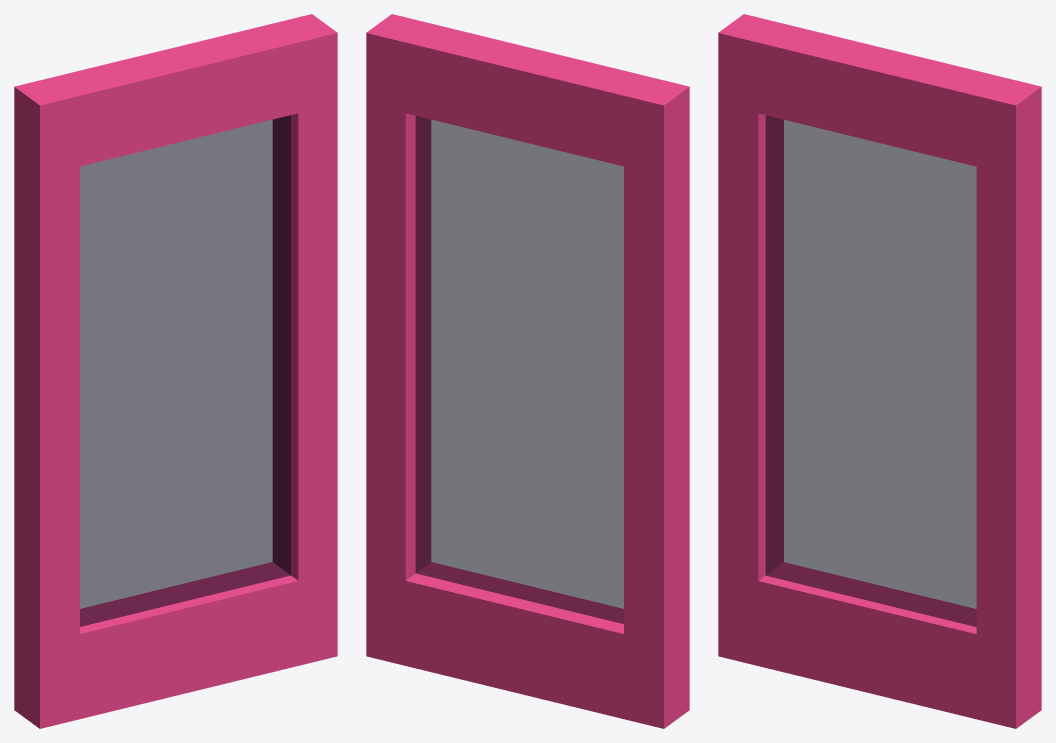
The model's file is PinkWindowLarge.glb.
3 renders of one model, left to right at view 1: azimuth 30°, elevation 25°; view 2: azimuth 150°, elevation 25°; view 3: azimuth 330°, elevation 25°, orthographic.
Parts seen in each view (by area): view 1: wall_largeWindow_pink; view 2: wall_largeWindow_pink; view 3: wall_largeWindow_pink.
Boxes of the visible parts, left/top/right/bottom form: wall_largeWindow_pink: left=14, top=14, right=337, bottom=728; wall_largeWindow_pink: left=366, top=14, right=689, bottom=728; wall_largeWindow_pink: left=718, top=14, right=1041, bottom=728.
Size of what is drawn, in the model's own units: 2 by 4 by 0.3.
Materials: 2 (2 with a texture image).
